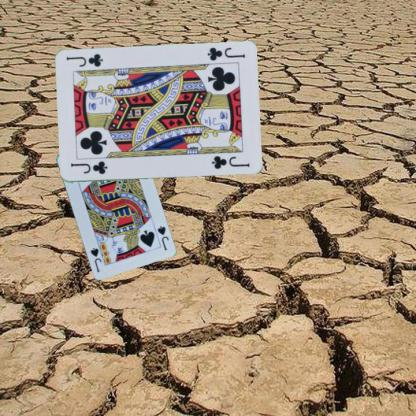Jc: (68, 158, 108, 176), (204, 45, 246, 62)
Js: (155, 223, 170, 251)
